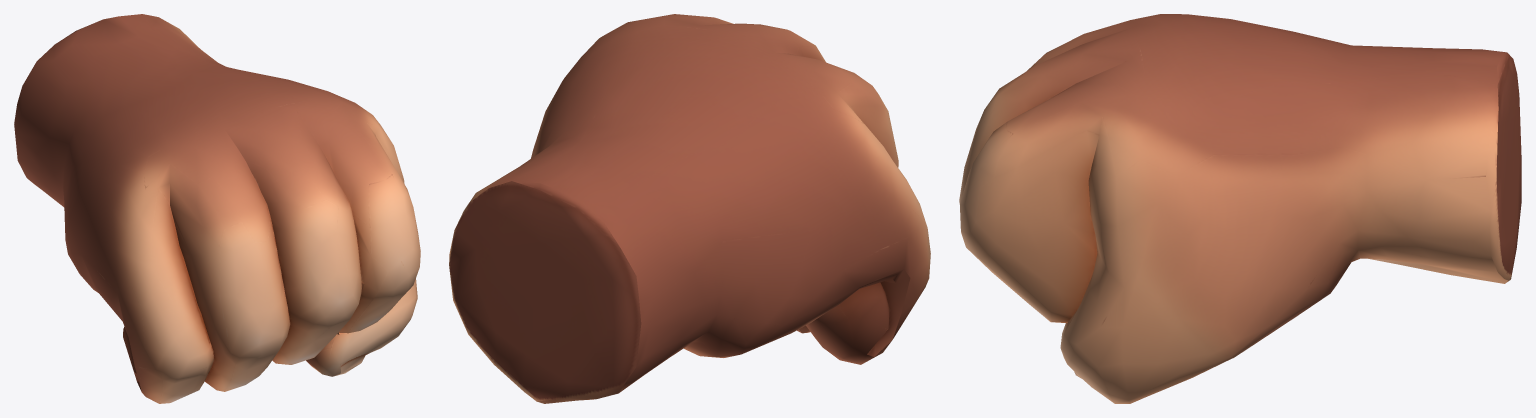
Rendered from HandFist.glb.
3 views of the same model, side by side, from view 1: azimuth 30°, elevation 25°; view 2: azimuth 150°, elevation 25°; view 3: azimuth 270°, elevation 25° (orthographic). The views are drawn at different scales.
Parts seen in each view (by area): view 1: geometry_0; view 2: geometry_0; view 3: geometry_0.
Part boxes in pixels (x1,y1,x2,y2): geometry_0: [14, 14, 420, 403]; geometry_0: [449, 14, 930, 403]; geometry_0: [959, 14, 1521, 403].
Bounding box in the file's own units: 0.0778 × 0.0664 × 0.11.
1 material, 1 textured.
